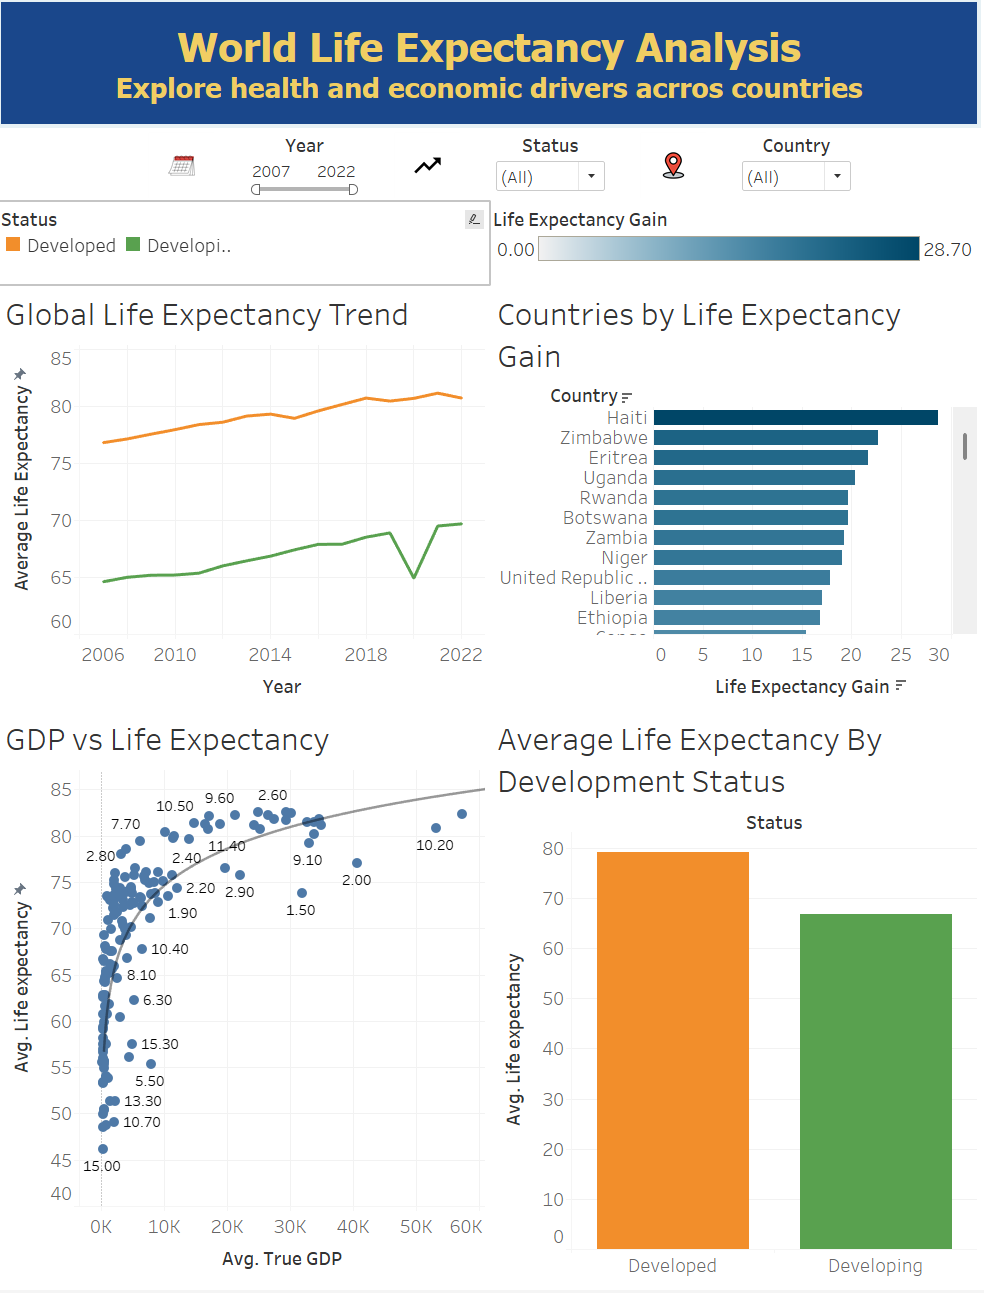

This screenshot's page, from the dashboard's own definition file:
{"tool":"tableau","page":{"name":"World Life Expectancy Analysis","canvas":[1200,1500],"ordinal":0},"visuals":[{"type":"text","box":[8,8,1184,150]},{"type":"blank","box":[8,158,148,86]},{"type":"image","param":"Image/Date.png","box":[156,158,148,86]},{"type":"filter","title":"Countries by Life Expectancy Gain","param":"[federated.0dbftak0cly7tm0zvi28p0gbuwag].[none:Year:qk]","box":[304,158,148,86]},{"type":"image","param":"Image/Untitled design.png","box":[452,158,148,86]},{"type":"filter","title":"GDP vs Life Expectancy","param":"[federated.0dbftak0cly7tm0zvi28p0gbuwag].[none:Status:nk]","box":[600,158,148,86]},{"type":"image","param":"Image/Location.png","box":[748,158,148,86]},{"type":"filter","title":"Global Life Expectancy Trend","param":"[federated.0dbftak0cly7tm0zvi28p0gbuwag].[none:Country:nk]","box":[896,158,148,86]},{"type":"blank","box":[1044,158,148,86]},{"type":"legend","title":"Global Life Expectancy Trend","param":"[federated.0dbftak0cly7tm0zvi28p0gbuwag].[none:Status:nk]","box":[8,244,592,95]},{"type":"legend","title":"Countries by Life Expectancy Gain","param":"[federated.0dbftak0cly7tm0zvi28p0gbuwag].[usr:Calculation_1760625996082593792:qk","box":[600,244,592,95]},{"type":"worksheet","title":"Global Life Expectancy Trend","mark":"Line","rows":["Calculation_1760625996084678659"],"cols":["Year"],"box":[8,339,592,491]},{"type":"worksheet","title":"Countries by Life Expectancy Gain","mark":"Bar","rows":["Country"],"cols":["Calculation_1760625996082593792"],"box":[600,339,592,491]},{"type":"worksheet","title":"GDP vs Life Expectancy","mark":"Circle","rows":["Life expectancy"],"cols":["Calculation_997828810083459074"],"box":[8,830,592,662]},{"type":"worksheet","title":"Average Life Expectancy By Development Status","mark":"Bar","rows":["Life expectancy"],"cols":["Status"],"box":[600,830,592,662]}]}

Visuals, with their boxes on the page's 1200x1500 design canvas (x1, y1, x2, y2). These are canvas units, not pixel positions in the 984x1293 screenshot, which may show the page scaled, cropped or inside an application window:
text: BBox(8, 8, 1192, 158)
blank: BBox(8, 158, 156, 244)
image: BBox(156, 158, 304, 244)
"Countries by Life Expectancy Gain" filter: BBox(304, 158, 452, 244)
image: BBox(452, 158, 600, 244)
"GDP vs Life Expectancy" filter: BBox(600, 158, 748, 244)
image: BBox(748, 158, 896, 244)
"Global Life Expectancy Trend" filter: BBox(896, 158, 1044, 244)
blank: BBox(1044, 158, 1192, 244)
"Global Life Expectancy Trend" legend: BBox(8, 244, 600, 339)
"Countries by Life Expectancy Gain" legend: BBox(600, 244, 1192, 339)
"Global Life Expectancy Trend" worksheet (Line marks): BBox(8, 339, 600, 830)
"Countries by Life Expectancy Gain" worksheet (Bar marks): BBox(600, 339, 1192, 830)
"GDP vs Life Expectancy" worksheet (Circle marks): BBox(8, 830, 600, 1492)
"Average Life Expectancy By Development Status" worksheet (Bar marks): BBox(600, 830, 1192, 1492)
